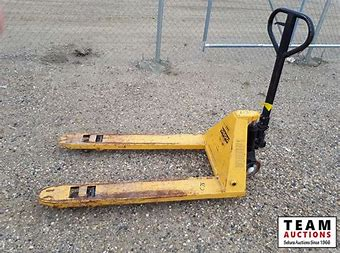Pallet Jack: (36, 8, 315, 208)
